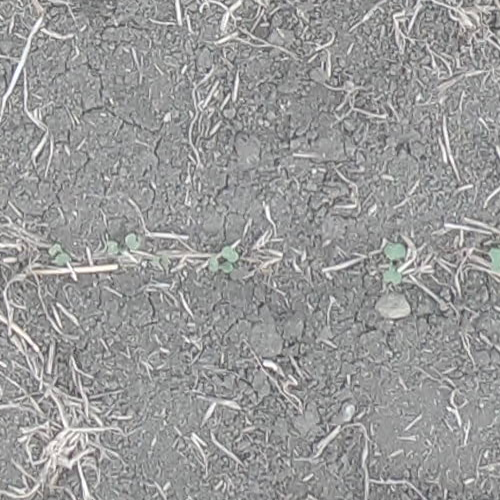isolated: (208, 244, 239, 274), (107, 233, 142, 257), (382, 243, 402, 284), (46, 243, 75, 269), (491, 241, 499, 270)
